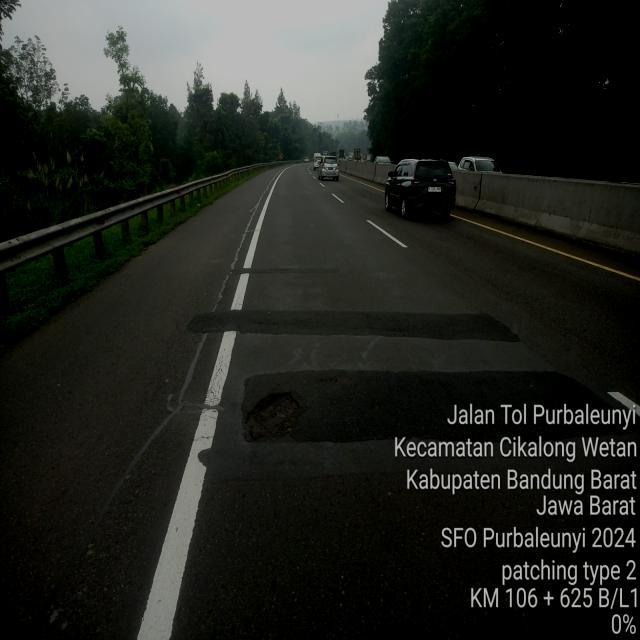Buraco: (239, 388, 310, 445), (313, 369, 357, 388)
